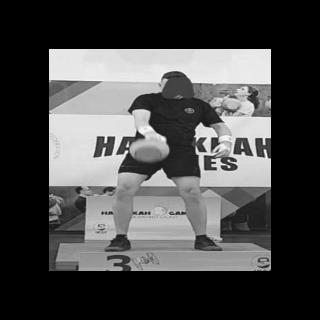kettlebell: (127, 134, 173, 164)
